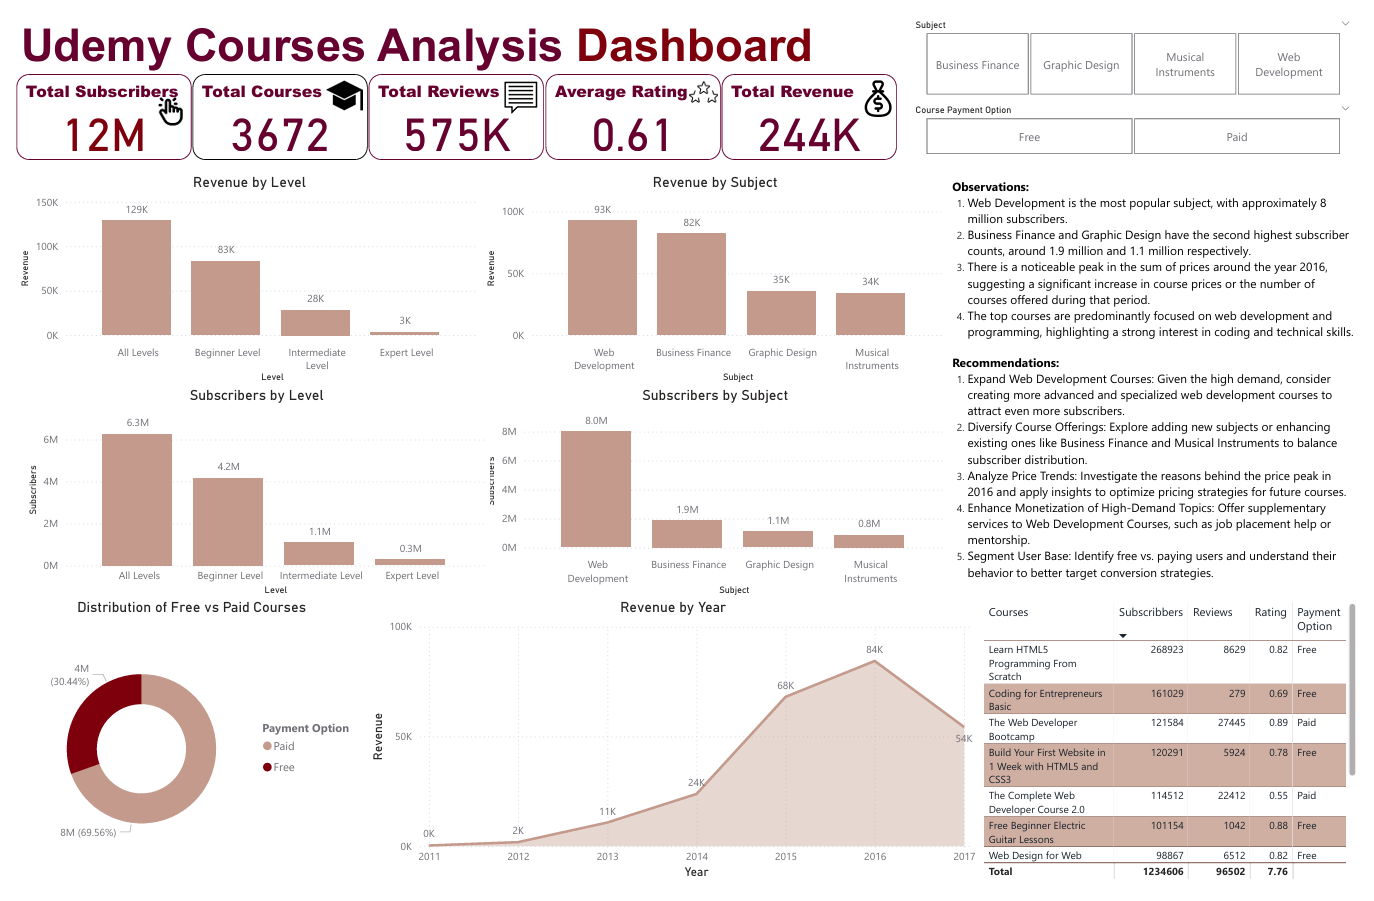

What the dashboard file says about the page in this screenshot:
{"tool":"powerbi","page":{"name":"Page 1","canvas":[1580,1020],"ordinal":0},"visuals":[{"type":"columnChart","fields":{"Category":["Combined_Udemy_Courses.subject"],"Y":["Sum(Combined_Udemy_Courses.num_subscribers)"]},"box":[547.7,435.9,547.7,250],"z":0},{"type":"columnChart","fields":{"Category":["Combined_Udemy_Courses.subject"],"Y":["Sum(Combined_Udemy_Courses.price)"]},"box":[547.7,185.9,547.7,250],"z":1000},{"type":"card","title":"Total Subscribers","fields":{"Values":["Sum(Combined_Udemy_Courses.num_subscribers)"]},"box":[0,69.1,206,100.5],"z":2000},{"type":"card","title":"Total Courses","fields":{"Values":["Count(Combined_Udemy_Courses.course_id)"]},"box":[206.7,68.9,206.1,100.6],"z":3000},{"type":"card","title":"Total Reviews","fields":{"Values":["Sum(Combined_Udemy_Courses.num_reviews)"]},"box":[414,69,206,101],"z":4000},{"type":"card","title":"Total Revenue","fields":{"Values":["Sum(Combined_Udemy_Courses.price)"]},"box":[829.1,69.1,206,100.5],"z":5000},{"type":"columnChart","fields":{"Category":["Combined_Udemy_Courses.level"],"Y":["Sum(Combined_Udemy_Courses.num_subscribers)"]},"box":[8.5,435.9,547.7,250],"z":6000},{"type":"clusteredColumnChart","fields":{"Y":["Sum(Combined_Udemy_Courses.price)"],"Category":["Combined_Udemy_Courses.level"]},"box":[0,185.9,547.7,250],"z":7000},{"type":"donutChart","title":"Distribution of Free vs Paid Courses","fields":{"Category":["Combined_Udemy_Courses.Course Payment Option"],"Y":["Sum(Combined_Udemy_Courses.num_subscribers)"]},"box":[0,685.9,412,334.1],"z":8000},{"type":"areaChart","fields":{"Category":["Combined_Udemy_Courses.published_date.Variation.Date Hierarchy.Year"],"Y":["Sum(Combined_Udemy_Courses.price)"]},"box":[412,685.9,719.8,334.1],"z":9000},{"type":"textbox","box":[0,0,989,77],"z":10000},{"type":"slicer","fields":{"Values":["Combined_Udemy_Courses.subject"]},"box":[1043.9,0,536.4,100.5],"z":11000},{"type":"tableEx","fields":{"Values":["Combined_Udemy_Courses.course_title","Sum(Combined_Udemy_Courses.num_subscribers)","Sum(Combined_Udemy_Courses.num_reviews)","Sum(Combined_Udemy_Courses.Rating)","Combined_Udemy_Courses.Course Payment Option"]},"box":[1131.8,685.9,448.4,334.1],"z":12000},{"type":"card","title":"Average Rating","fields":{"Values":["Combined_Udemy_Courses.Average_Star_Rating"]},"box":[621.8,69.1,206,100.5],"z":13000},{"type":"textbox","box":[1095.4,185.9,484.9,500],"z":14000},{"type":"slicer","fields":{"Values":["Combined_Udemy_Courses.Course Payment Option"]},"box":[1043.9,100.5,536.4,69.1],"z":15000},{"type":"image","box":[984.2,69.7,56.6,56.6],"z":16000},{"type":"image","box":[564,71.6,57.8,50.2],"z":17000},{"type":"image","box":[782.9,67.8,49.3,44.1],"z":18000},{"type":"image","box":[157,90.4,49,45.2],"z":19000},{"type":"image","box":[359.2,68.4,52.6,53.9],"z":20000}]}

Visuals, with their boxes in screenshot pixels (x1, y1, x2, y2), scaled from the page's 1580x1020 canvas onto the 1374x901 screenshot:
columnChart - Combined_Udemy_Courses.subject x Sum(Combined_Udemy_Courses.num_subscribers): Rect(476, 385, 953, 606)
columnChart - Combined_Udemy_Courses.subject x Sum(Combined_Udemy_Courses.price): Rect(476, 164, 953, 385)
"Total Subscribers" card: Rect(0, 61, 179, 150)
"Total Courses" card: Rect(180, 61, 359, 150)
"Total Reviews" card: Rect(360, 61, 539, 150)
"Total Revenue" card: Rect(721, 61, 900, 150)
columnChart - Combined_Udemy_Courses.level x Sum(Combined_Udemy_Courses.num_subscribers): Rect(7, 385, 484, 606)
clusteredColumnChart - Sum(Combined_Udemy_Courses.price) x Combined_Udemy_Courses.level: Rect(0, 164, 476, 385)
"Distribution of Free vs Paid Courses" donutChart: Rect(0, 606, 358, 900)
areaChart - Combined_Udemy_Courses.published_date.Variation.Date Hierarchy.Year x Sum(Combined_Udemy_Courses.price): Rect(358, 606, 984, 900)
textbox: Rect(0, 0, 860, 68)
slicer - Combined_Udemy_Courses.subject: Rect(908, 0, 1373, 89)
tableEx - Combined_Udemy_Courses.course_title x Sum(Combined_Udemy_Courses.num_subscribers): Rect(984, 606, 1373, 900)
"Average Rating" card: Rect(541, 61, 720, 150)
textbox: Rect(953, 164, 1373, 606)
slicer - Combined_Udemy_Courses.Course Payment Option: Rect(908, 89, 1373, 150)
image: Rect(856, 62, 905, 112)
image: Rect(490, 63, 541, 108)
image: Rect(681, 60, 724, 99)
image: Rect(137, 80, 179, 120)
image: Rect(312, 60, 358, 108)
